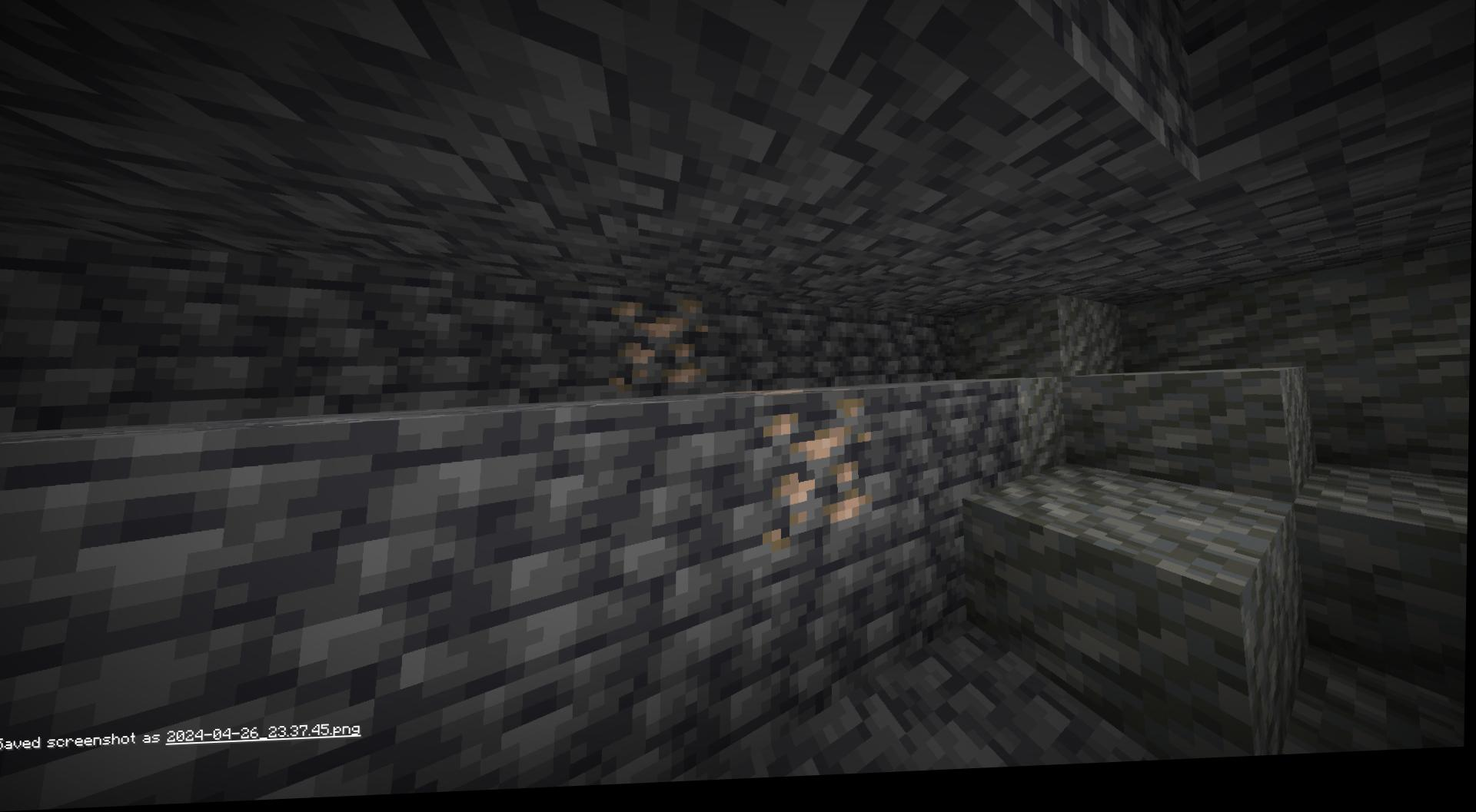iron ore: (759, 398, 874, 540), (605, 298, 707, 397)
